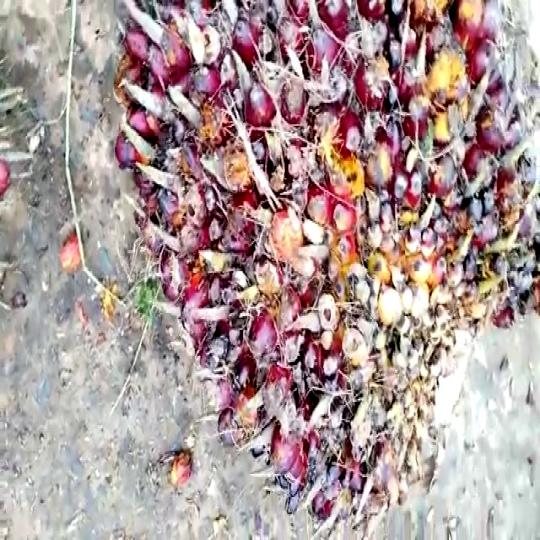masak: (116, 0, 540, 540)
